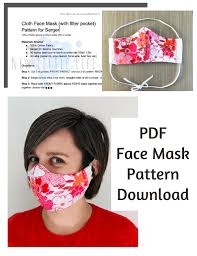cloth_mask: (26, 163, 96, 214)
